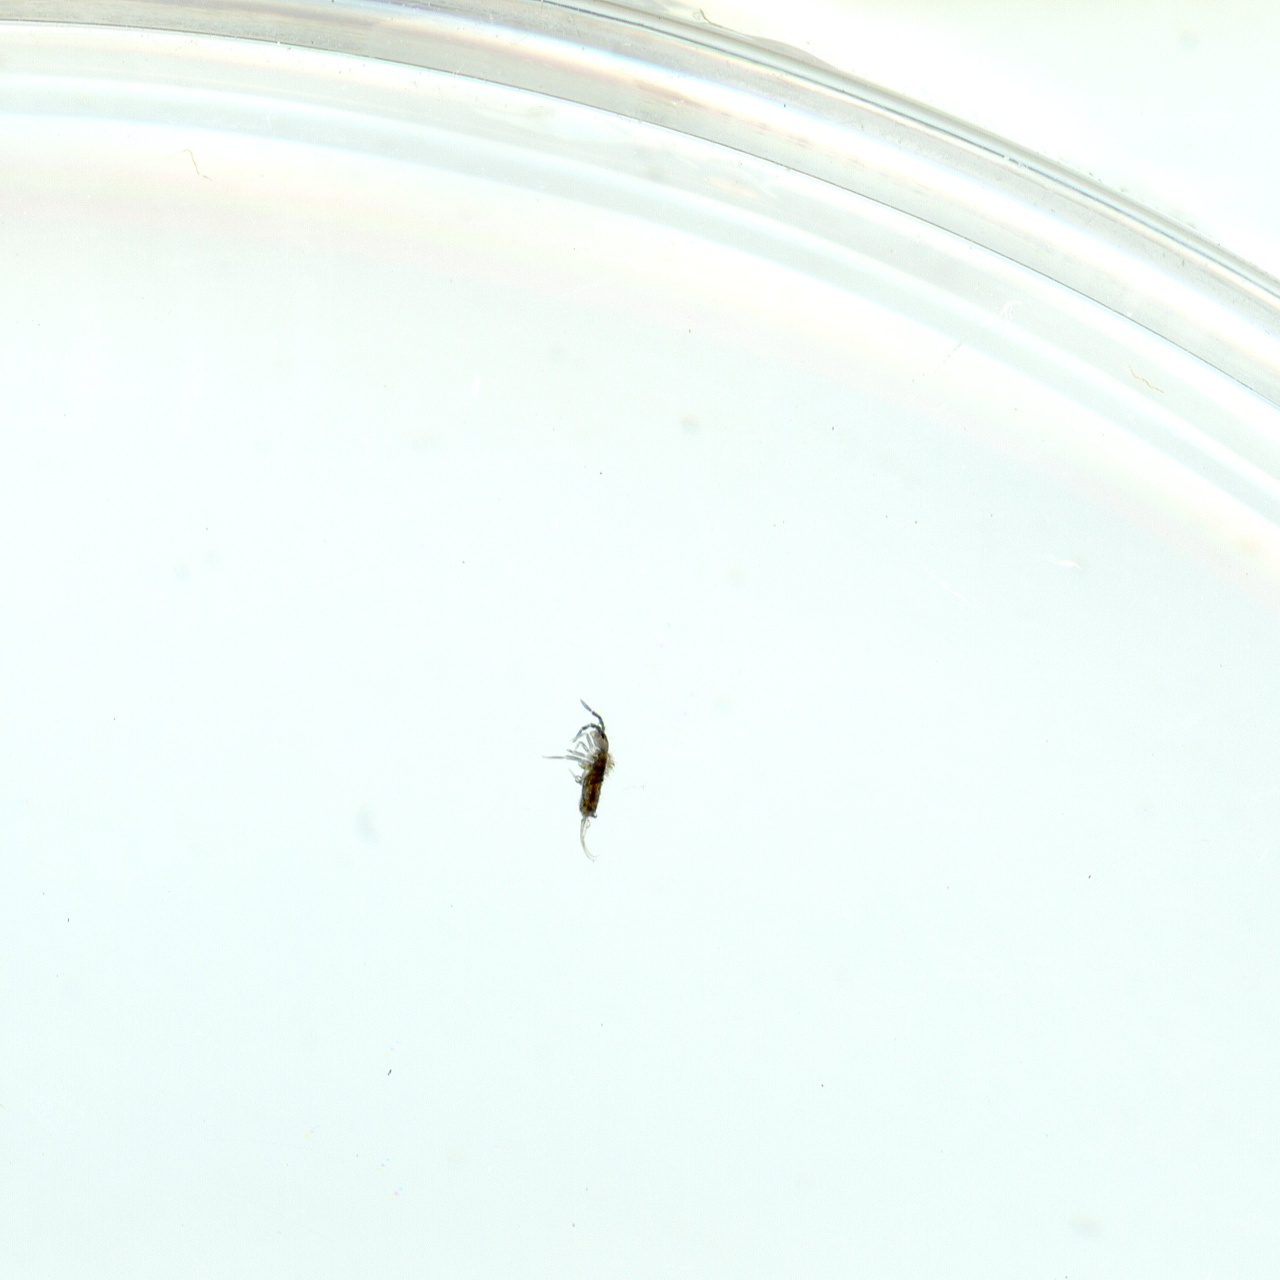arthropod: (556, 694, 624, 864)
